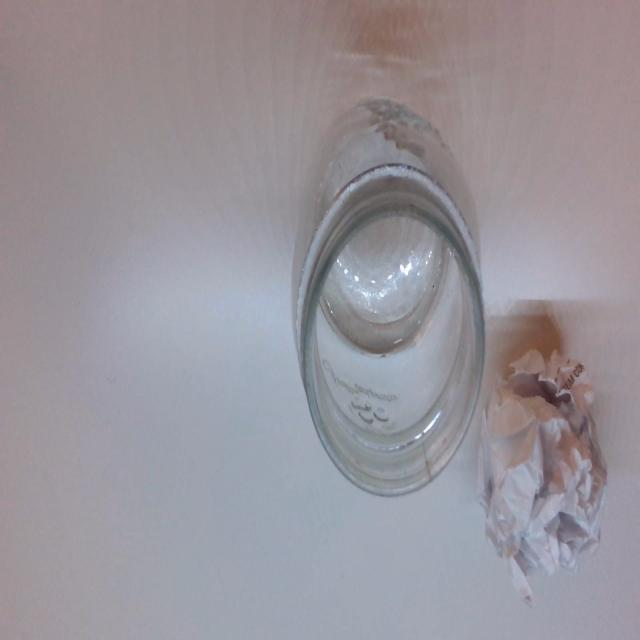Glass: (296, 98, 488, 506)
Paper: (487, 339, 609, 579)
